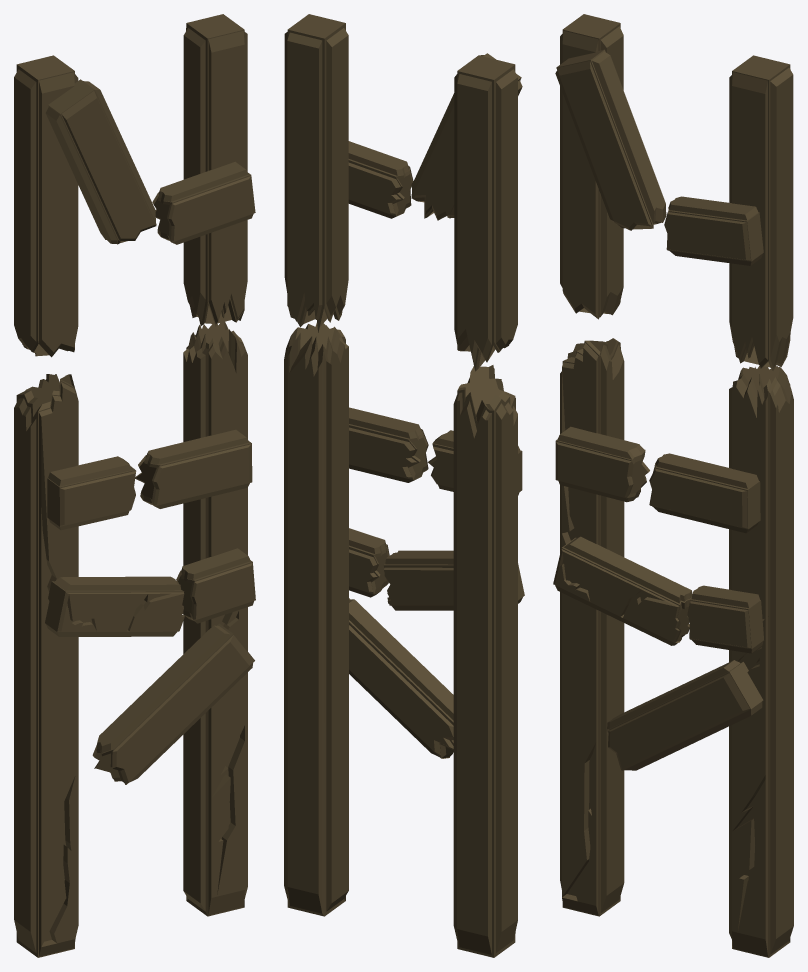
The model's file is BrokenLadder.fbx.
The picture shows the model from 3 angles, left to right: view 1: azimuth 30°, elevation 25°; view 2: azimuth 150°, elevation 25°; view 3: azimuth 330°, elevation 25°; orthographic projection.
Parts seen in each view (by area): view 1: BrokenLadder, Laddersteps; view 2: BrokenLadder, Laddersteps; view 3: BrokenLadder, Laddersteps.
Part boxes in pixels (x1,y1,x2,y2): BrokenLadder: (14,14,247,957); Laddersteps: (45,79,255,784); BrokenLadder: (284,14,517,957); Laddersteps: (348,53,524,758); BrokenLadder: (560,14,793,957); Laddersteps: (553,49,764,770).
Size of the model in its own units: 210 by 812 by 67.05.
